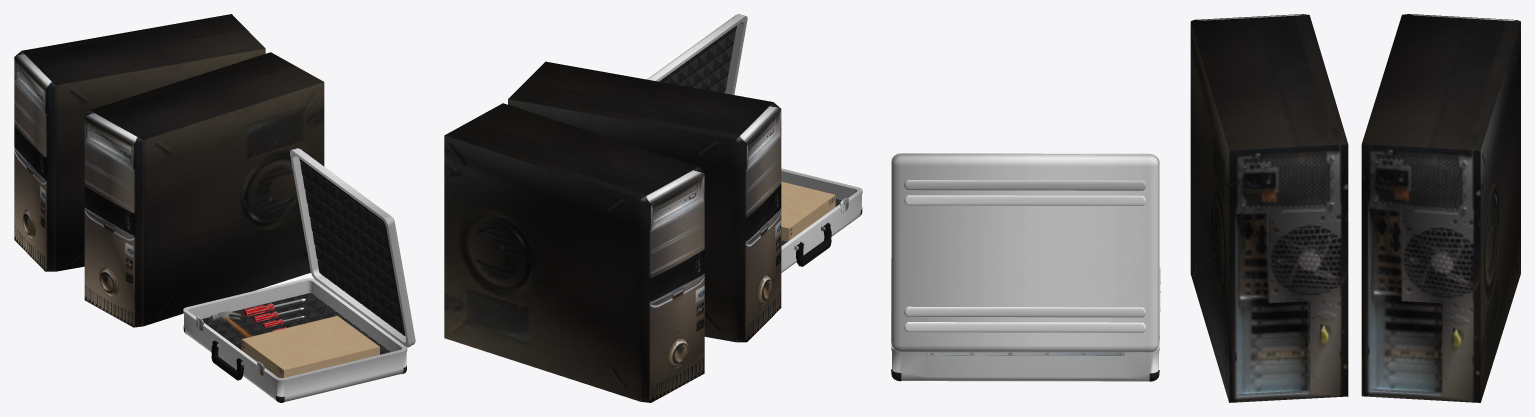
Rendered from valigiassistenza.gltf.
The picture shows the model from 3 angles, left to right: view 1: azimuth 30°, elevation 25°; view 2: azimuth 150°, elevation 25°; view 3: azimuth 270°, elevation 25°; orthographic projection. The views are drawn at different scales.
Visible parts, largest first — view 1: Assistenza Tecnica Pc Dx, Assistenza Tecnica Pc Sx, Assistenza Tecnica Valigetta Alta, Assistenza Tecnica Valigetta Bassa, Assistenza Tecnica Valigetta Bassa Scatola, Assistenza Tecnica Valigetta Martello; view 2: Assistenza Tecnica Pc Sx, Assistenza Tecnica Pc Dx, Assistenza Tecnica Valigetta Alta, Assistenza Tecnica Valigetta Bassa, Assistenza Tecnica Valigetta Bassa Scatola; view 3: Assistenza Tecnica Pc Sx, Assistenza Tecnica Pc Dx, Assistenza Tecnica Valigetta Alta, Assistenza Tecnica Valigetta Bassa.
Boxes of the visible parts, left/top/right/bottom form: Assistenza Tecnica Pc Dx: left=84, top=52, right=324, bottom=327; Assistenza Tecnica Pc Sx: left=14, top=14, right=265, bottom=271; Assistenza Tecnica Valigetta Alta: left=290, top=148, right=415, bottom=347; Assistenza Tecnica Valigetta Bassa: left=183, top=278, right=407, bottom=402; Assistenza Tecnica Valigetta Bassa Scatola: left=241, top=315, right=379, bottom=378; Assistenza Tecnica Valigetta Martello: left=210, top=311, right=251, bottom=337; Assistenza Tecnica Pc Sx: left=444, top=103, right=704, bottom=402; Assistenza Tecnica Pc Dx: left=508, top=61, right=781, bottom=342; Assistenza Tecnica Valigetta Alta: left=647, top=14, right=747, bottom=94; Assistenza Tecnica Valigetta Bassa: left=781, top=168, right=862, bottom=272; Assistenza Tecnica Valigetta Bassa Scatola: left=781, top=181, right=835, bottom=241; Assistenza Tecnica Pc Sx: left=1361, top=14, right=1520, bottom=402; Assistenza Tecnica Pc Dx: left=1190, top=14, right=1348, bottom=402; Assistenza Tecnica Valigetta Alta: left=891, top=153, right=1159, bottom=352; Assistenza Tecnica Valigetta Bassa: left=891, top=267, right=1160, bottom=381.
Bounding box in the file's own units: 0.4308 × 0.3837 × 0.8153.
5 materials, 5 textured.
